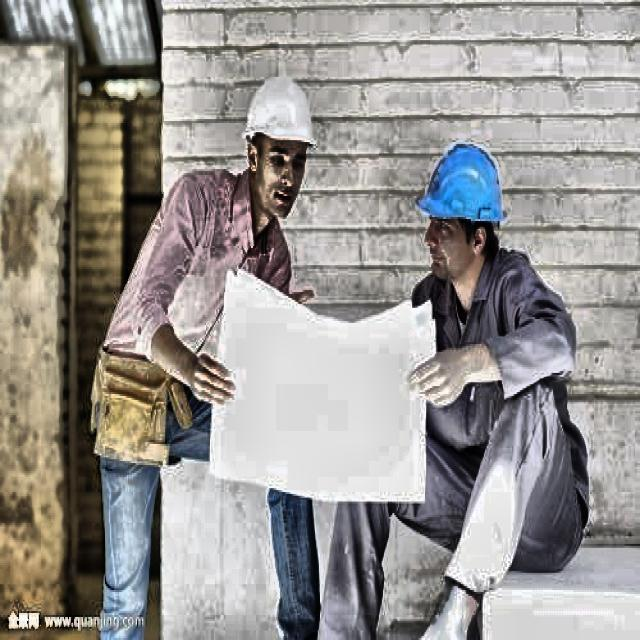helmet: (410, 121, 510, 292), (239, 65, 325, 229)
